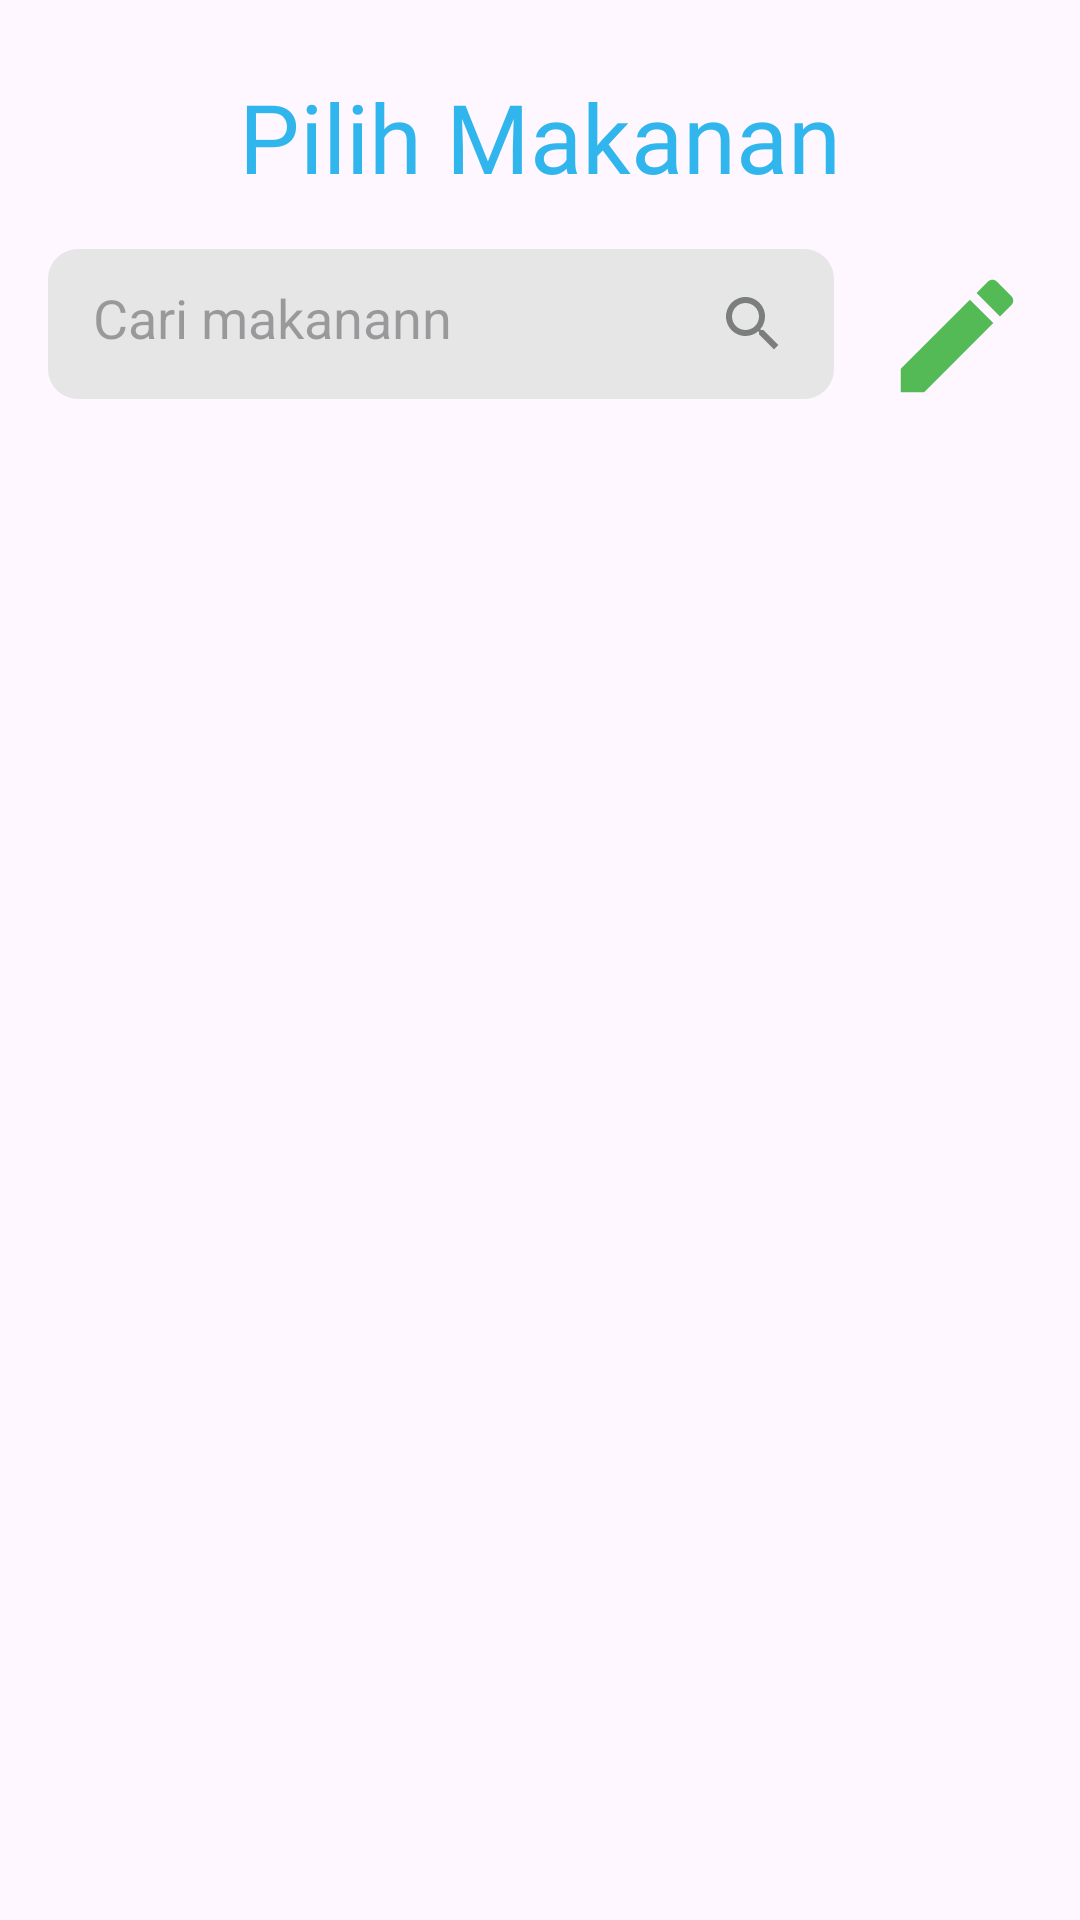

Icons on this 1080×1920 Android screen, each with the point to tap as point (x, y):
edit: point (957, 336)
